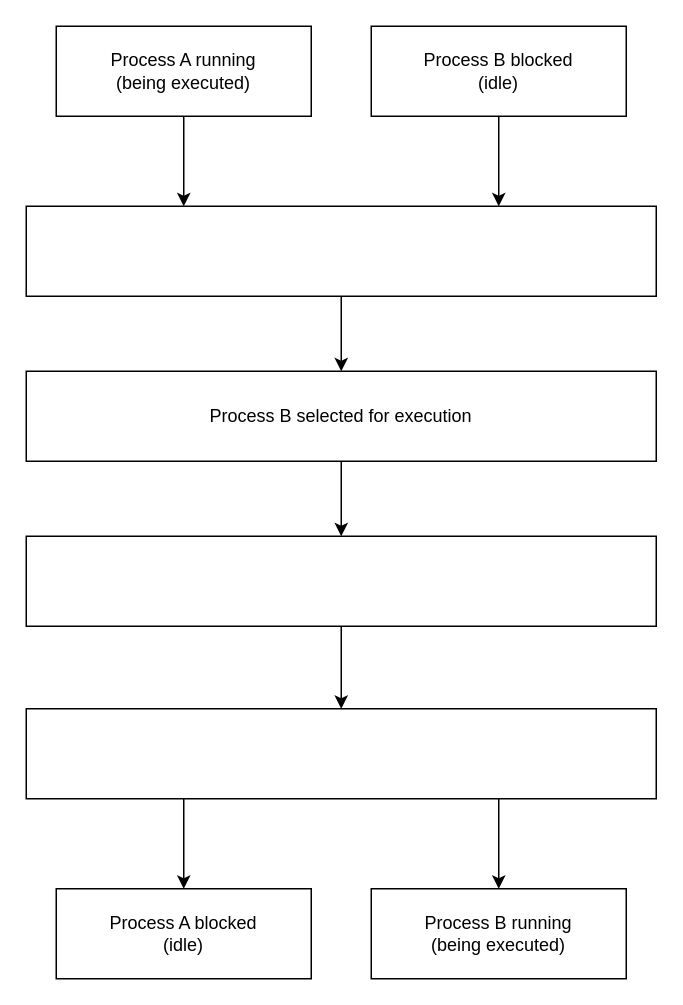
The diagram is 683 pixels wide and 1005 high, and some of its shapes have lost their labels. The shapes that lost their labels are listed below. From the top down, each one's centre as x and y in pixels, then its label:
At (x=340, y=250): "System Interrupt".
At (x=340, y=580): "Process A saved into PCB A".
At (x=340, y=753): "Process B loaded from PCB B".
